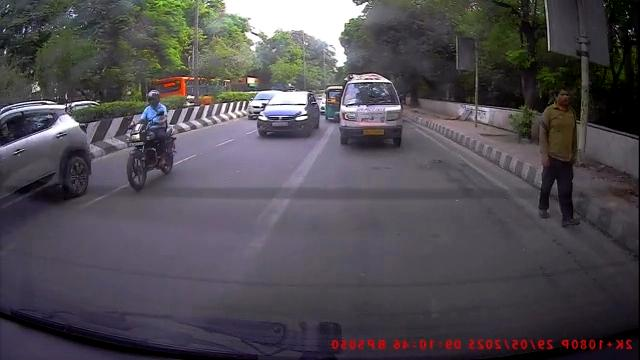motorcycle_with_helmet: (124, 88, 177, 194)
